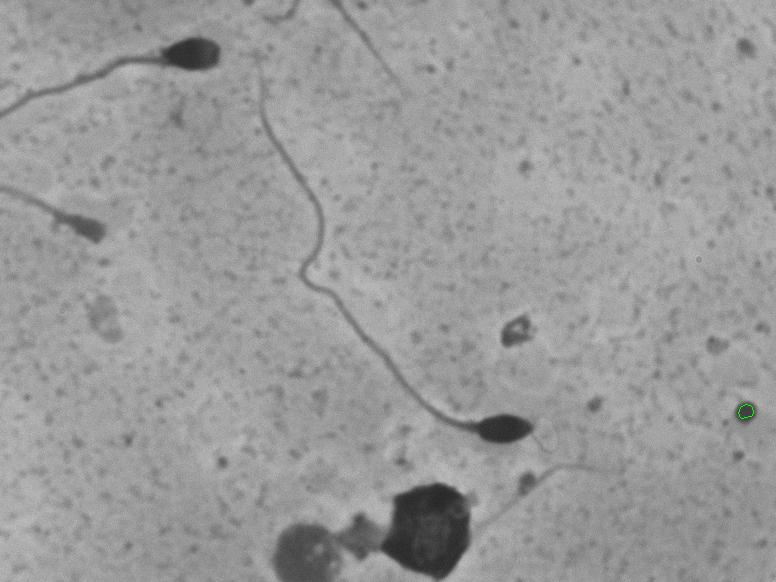Abnormal: (238, 35, 545, 471)
